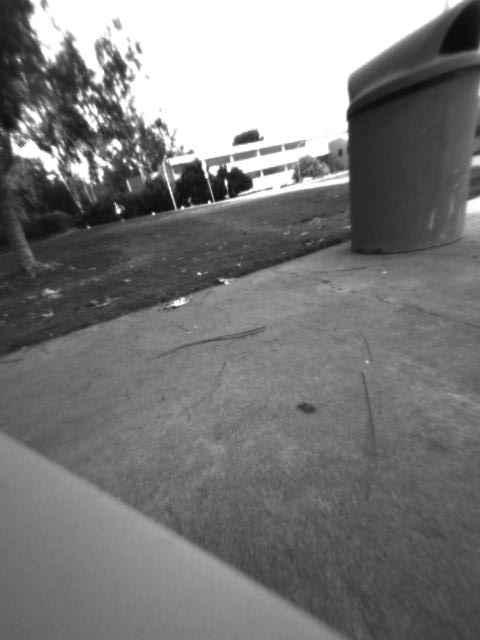trashcan: (344, 1, 479, 259)
